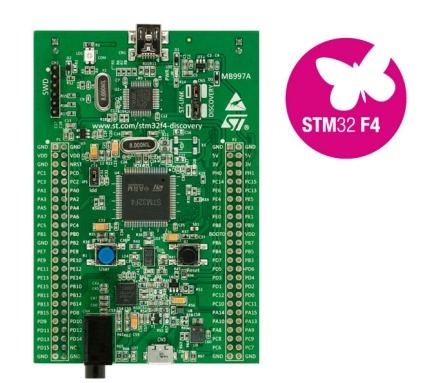STM32F4-DISC: (23, 20, 270, 380)
